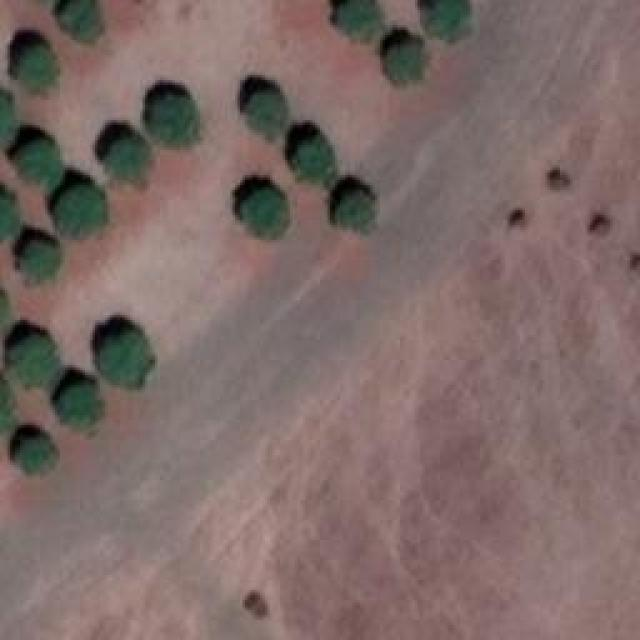Tree: (100, 330, 150, 388), (8, 338, 61, 388), (55, 188, 110, 233), (240, 190, 290, 238), (12, 142, 60, 190), (153, 95, 198, 143), (105, 137, 150, 185), (18, 45, 61, 90), (245, 95, 288, 140), (295, 137, 335, 185), (58, 385, 101, 428), (60, 0, 100, 42), (342, 0, 380, 40), (388, 43, 423, 86), (425, 0, 468, 35), (22, 245, 60, 283), (337, 195, 375, 230), (18, 435, 53, 473), (0, 192, 20, 240), (0, 95, 15, 145), (0, 383, 15, 433)
